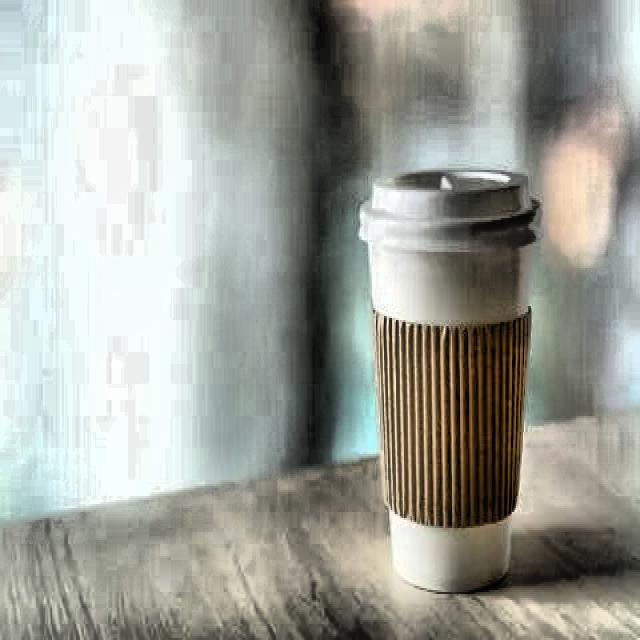Cup: (356, 159, 566, 613)
